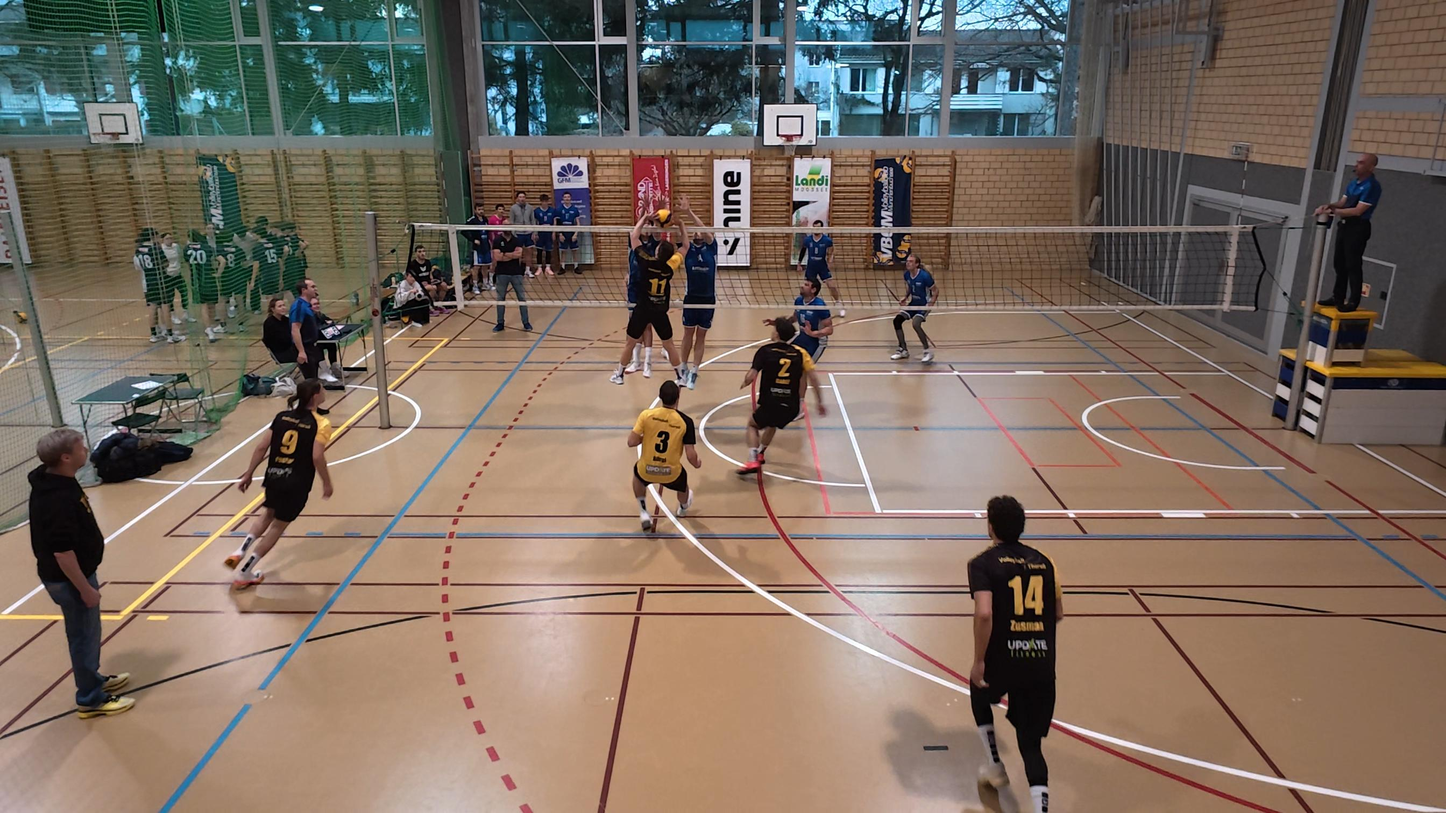Block: (672, 195, 725, 390)
Player: (968, 495, 1061, 812), (224, 378, 334, 588), (737, 317, 821, 479), (628, 382, 700, 531), (789, 276, 835, 414), (891, 254, 937, 363), (800, 219, 837, 305)
Serve: (610, 199, 683, 400)
ball: (653, 207, 671, 223)
